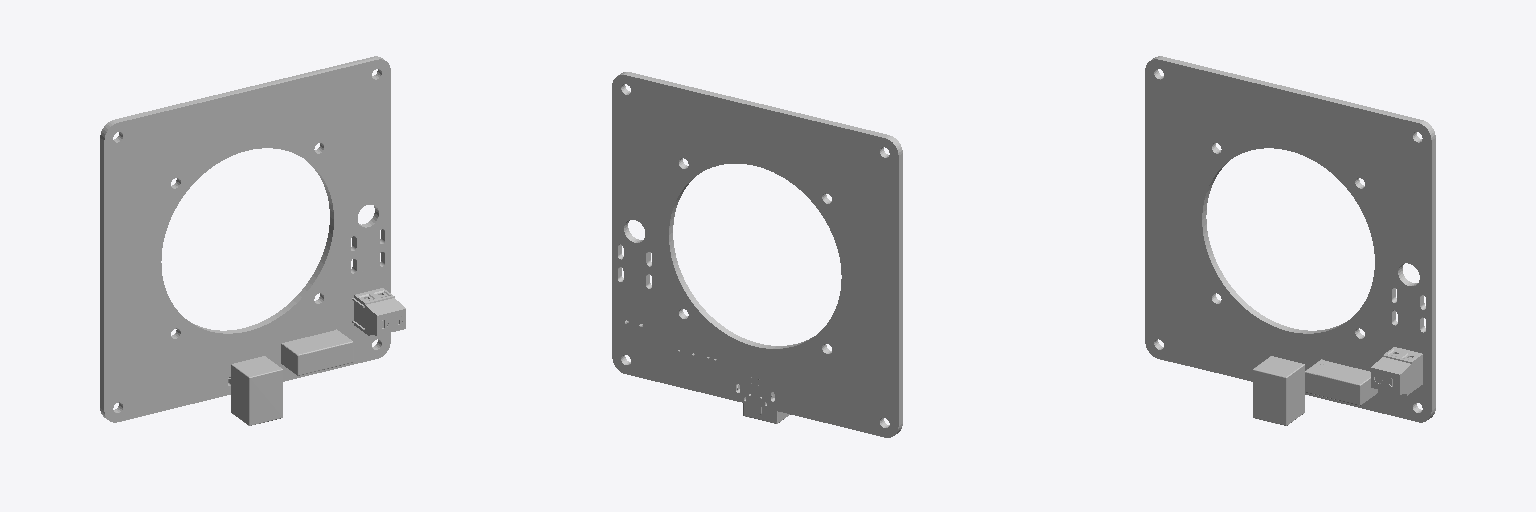
Rendered from OBJ_PCB_Fan supply.obj.
3 views of the same model, side by side, from view 1: azimuth 30°, elevation 25°; view 2: azimuth 150°, elevation 25°; view 3: azimuth 330°, elevation 25° (orthographic).
Bounding box in the file's own units: 393 × 416 × 71.26.